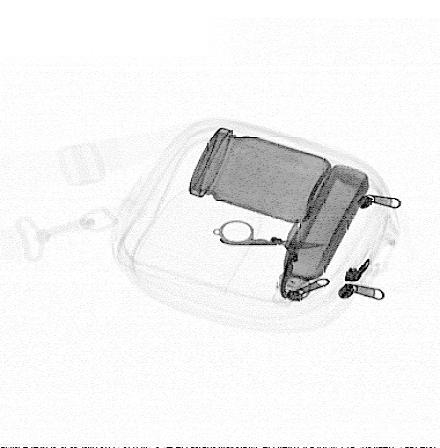Scissors: (211, 219, 332, 301)
